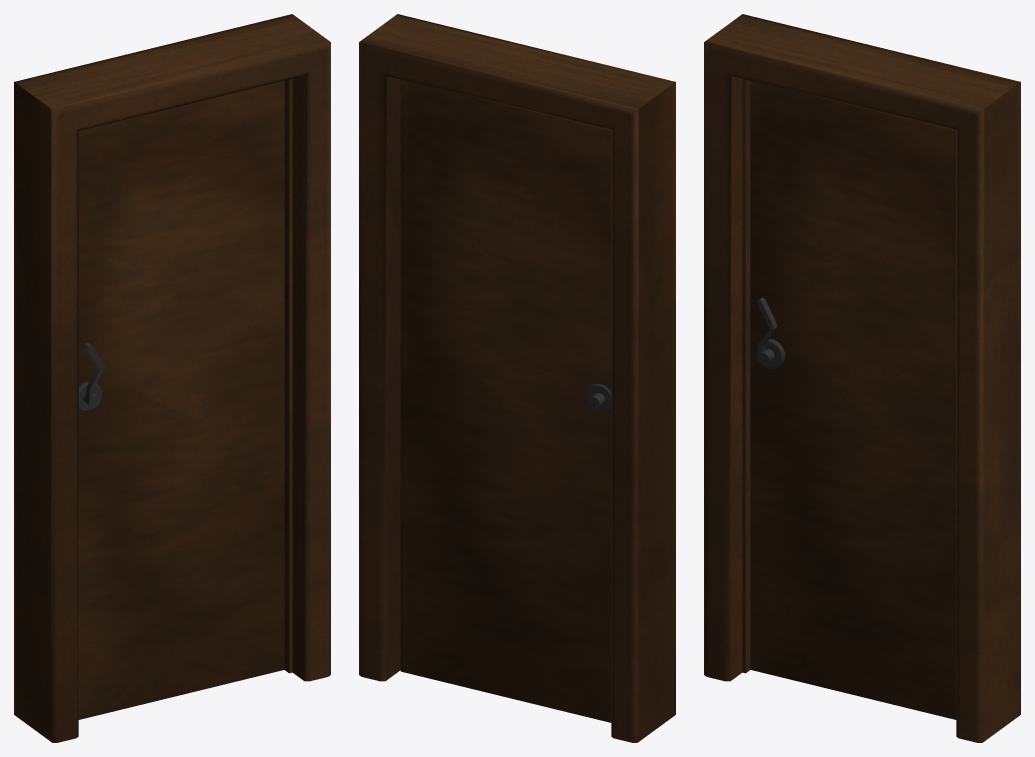
Rendered from Door.fbx.
3 renders of one model, left to right at view 1: azimuth 30°, elevation 25°; view 2: azimuth 150°, elevation 25°; view 3: azimuth 330°, elevation 25°, orthographic.
Parts seen in each view (by area): view 1: DOOR, Door, handle; view 2: DOOR, Door, handle; view 3: DOOR, Door, handle.
Part boxes in pixels (x1,y1,x2,y2): DOOR: (78, 81, 284, 719); Door: (14, 14, 330, 742); handle: (78, 342, 104, 411); DOOR: (400, 80, 611, 722); Door: (359, 14, 675, 742); handle: (586, 383, 611, 413); DOOR: (750, 81, 956, 719); Door: (704, 14, 1020, 742); handle: (756, 297, 785, 368).
Size of the model in its own units: 101 by 219 by 25.63.
3 materials, 3 textured.
